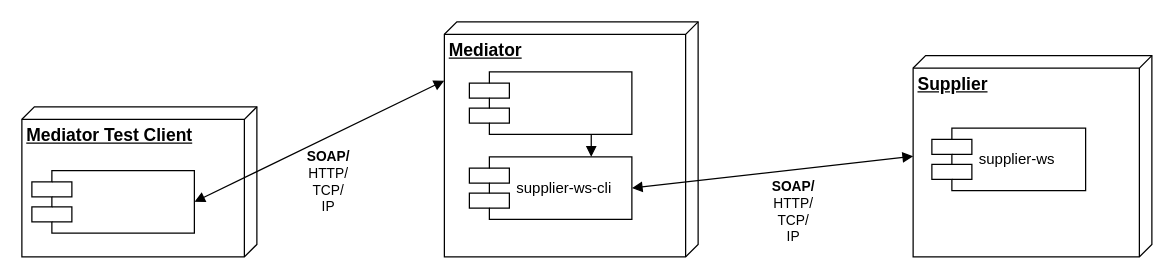
Some shapes in this 1174 by 279 pixel diagram are drawn without their labels. The box of each missing label's shape, as (x1, y1, x2, y2) in pixels:
mediator-ws: (468, 71, 632, 134)
mediator-ws-cli: (31, 169, 194, 233)
